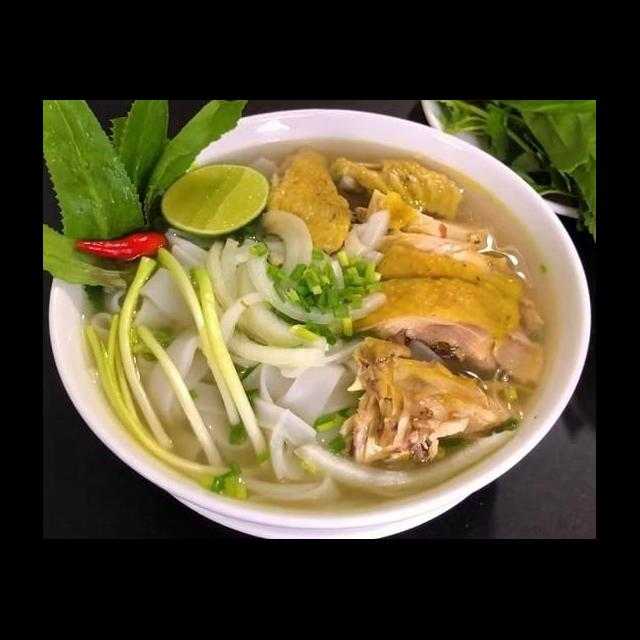banh pho: (88, 223, 364, 510)
pho ga: (61, 132, 596, 538)
thit ga: (338, 326, 526, 472), (330, 270, 550, 392), (366, 230, 550, 344), (258, 140, 356, 260), (326, 148, 468, 228), (348, 185, 501, 258)
